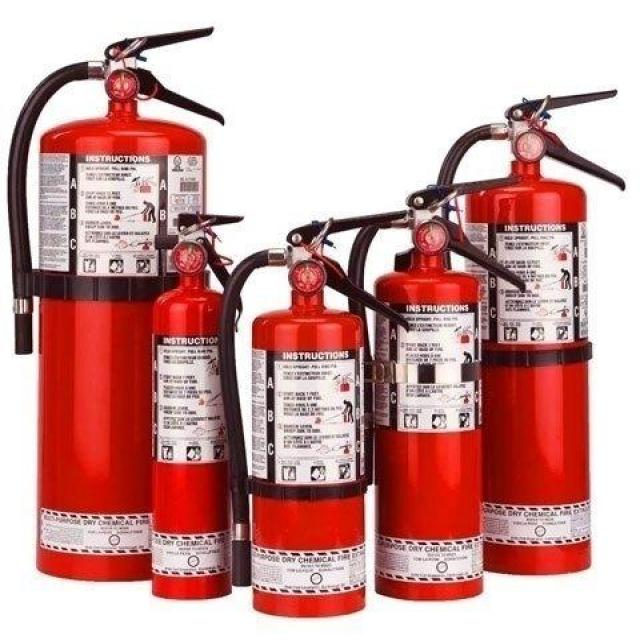fire_extinguisher: (2, 21, 227, 585), (427, 83, 629, 579), (337, 173, 530, 606), (211, 206, 412, 621), (144, 210, 252, 602)
